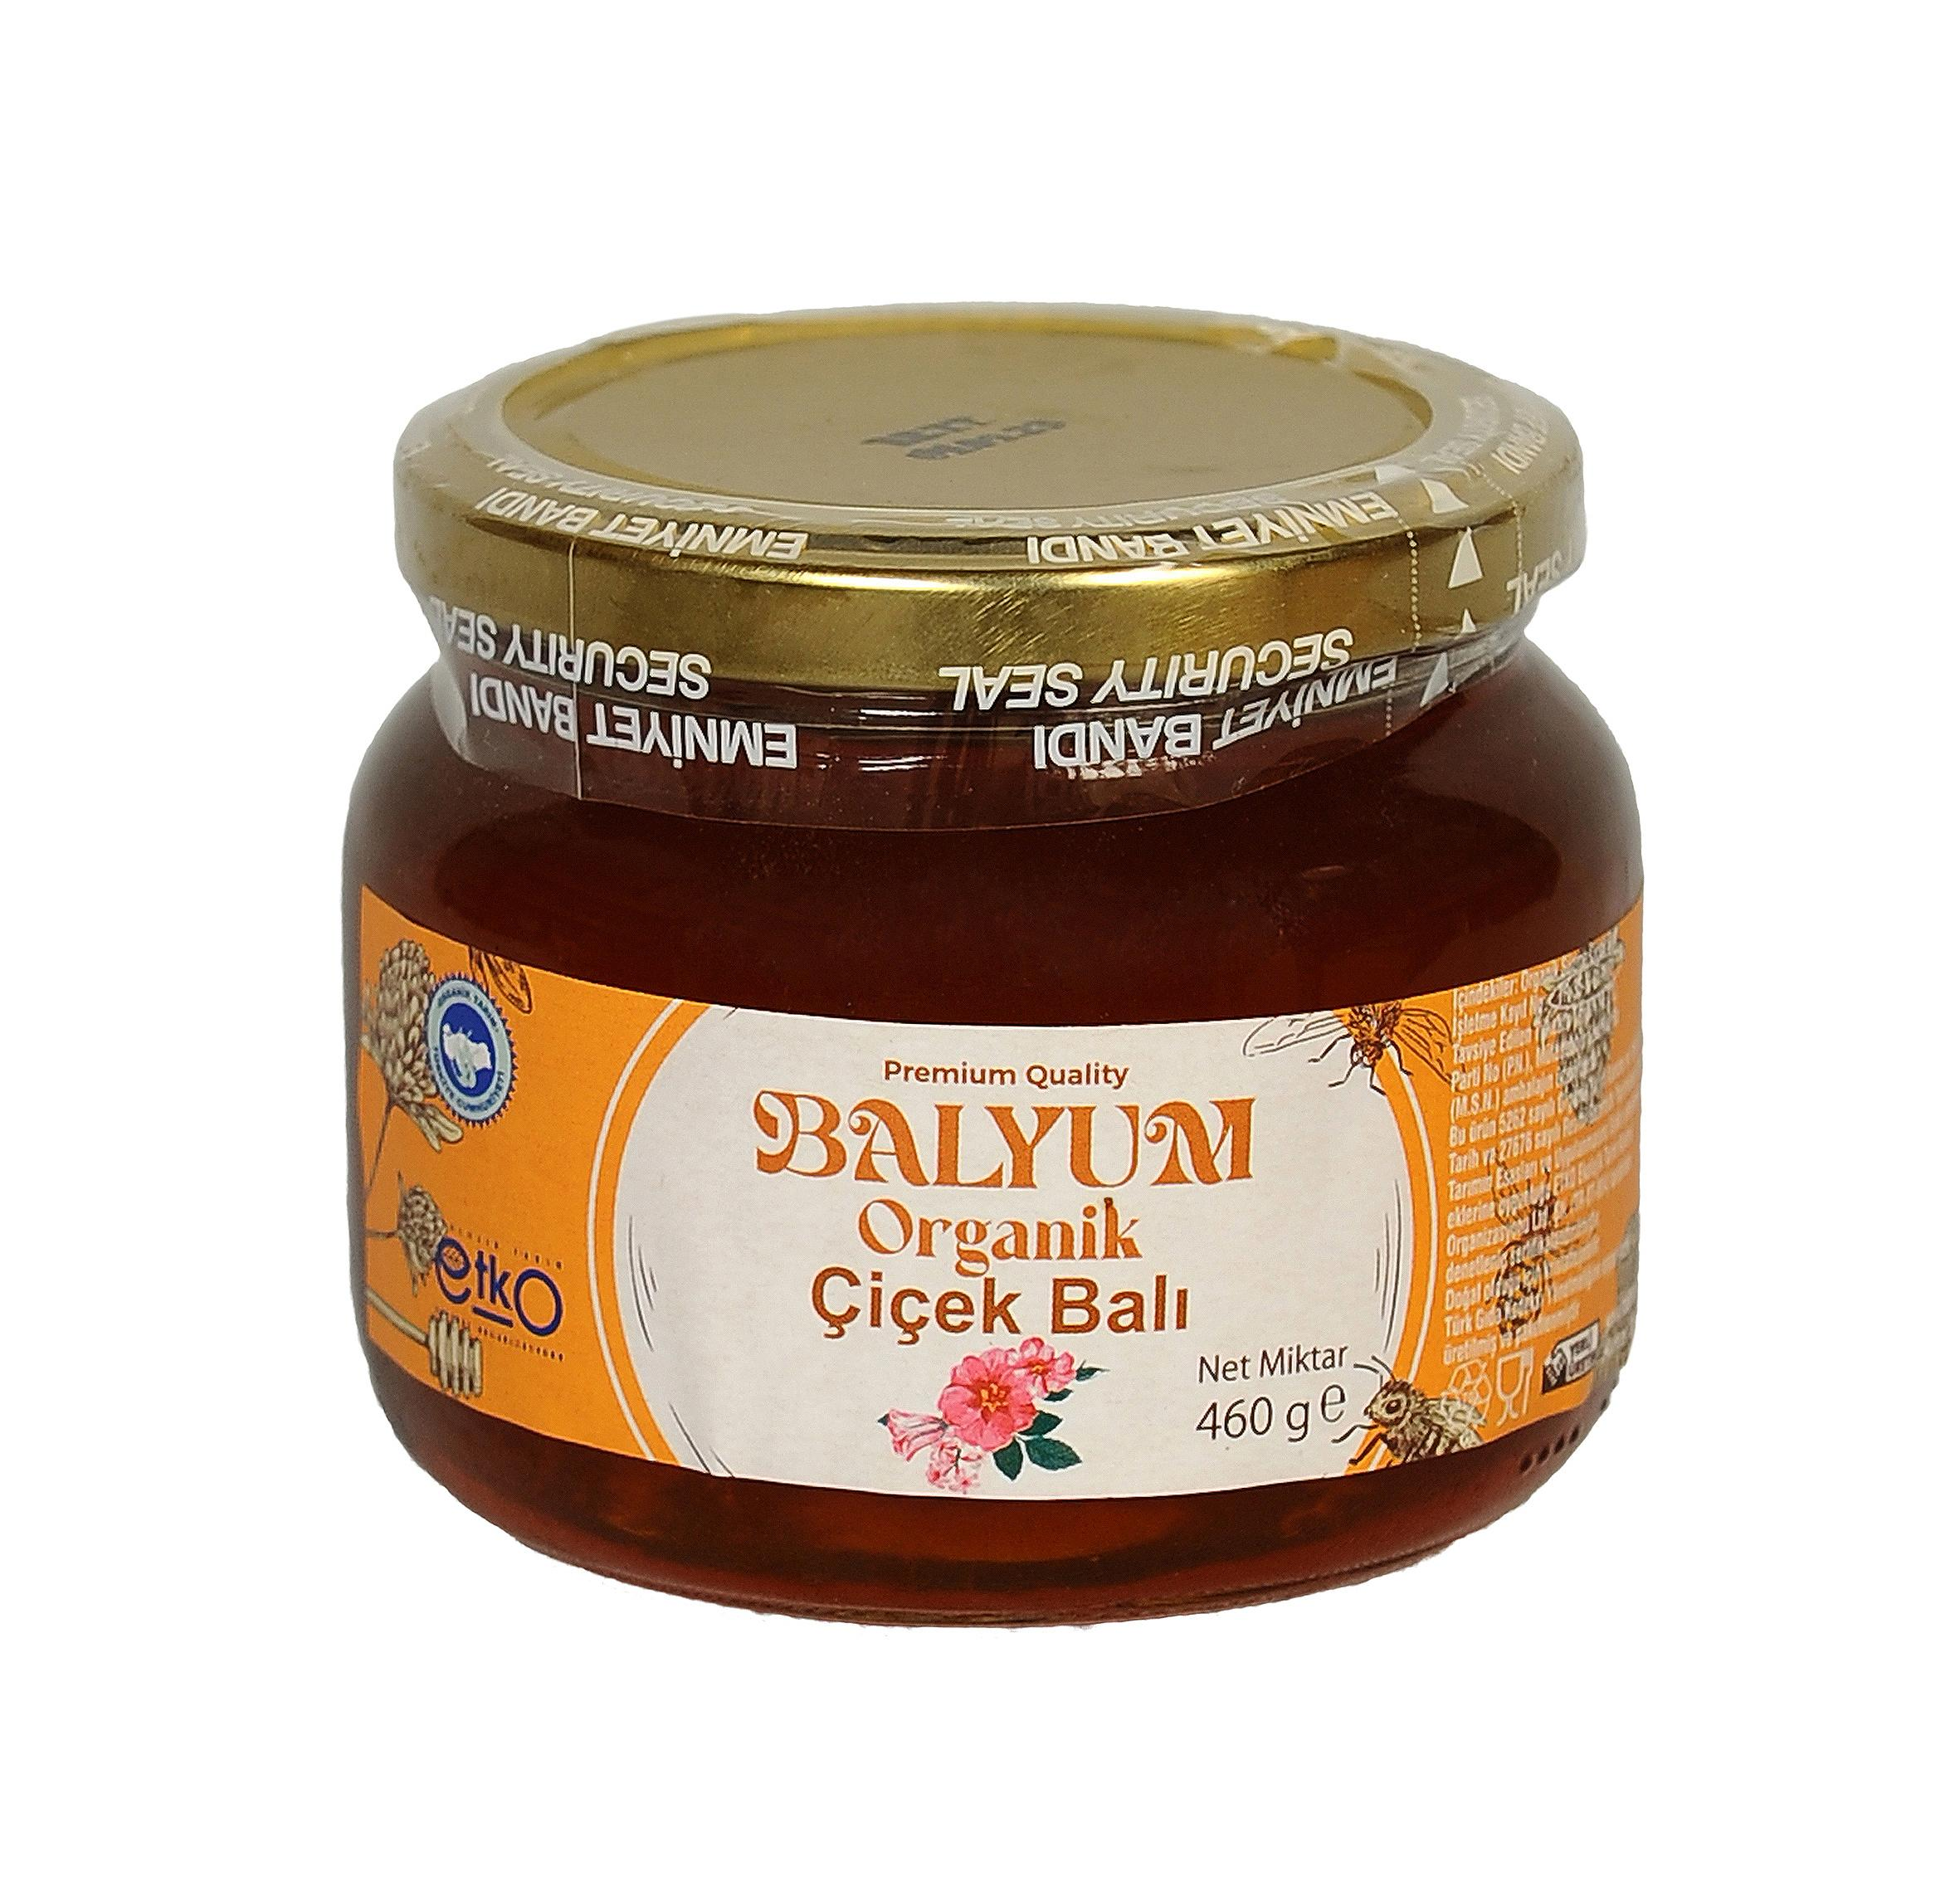jars: (317, 245, 1680, 1661)
